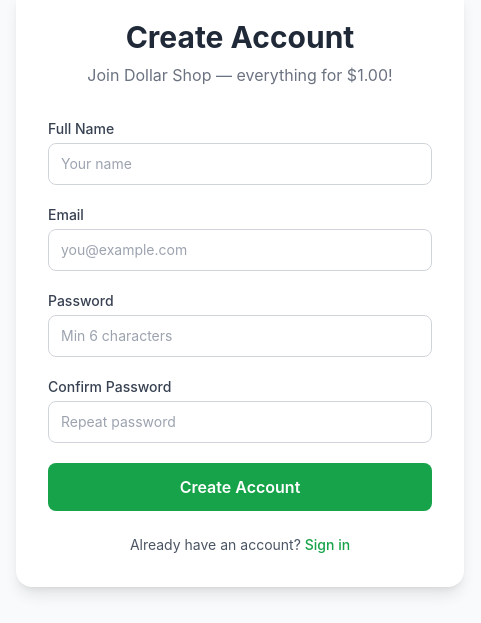
Scenario: RegisterPage › shows error when passwords do not match
The image size is (481, 623).
Type "Alice" into the field with placeholder "Your name" at (240, 164), box [48,143,432,185]
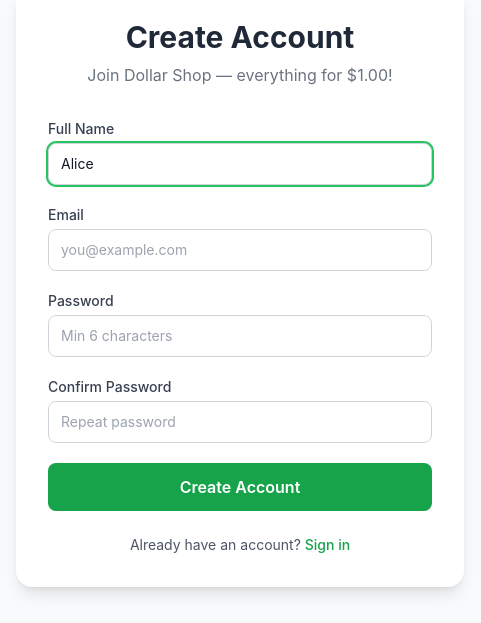
Type "alice@test.com" into the field with placeholder "you@example.com" at (240, 250), box [48,229,432,271]
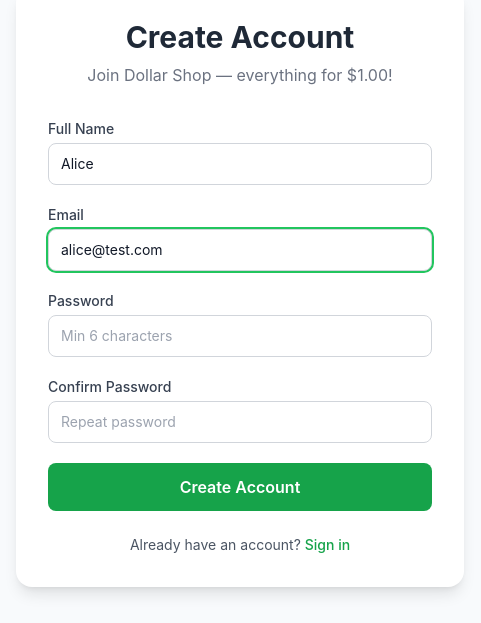
Type "password123" into the password field with placeholder "Min 6 characters" at (240, 336), box [48,315,432,357]
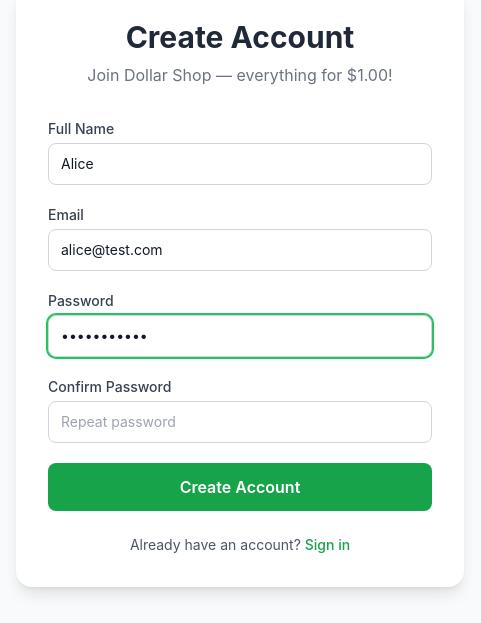
Type "different" into the password field with placeholder "Repeat password" at (240, 422), box [48,401,432,443]
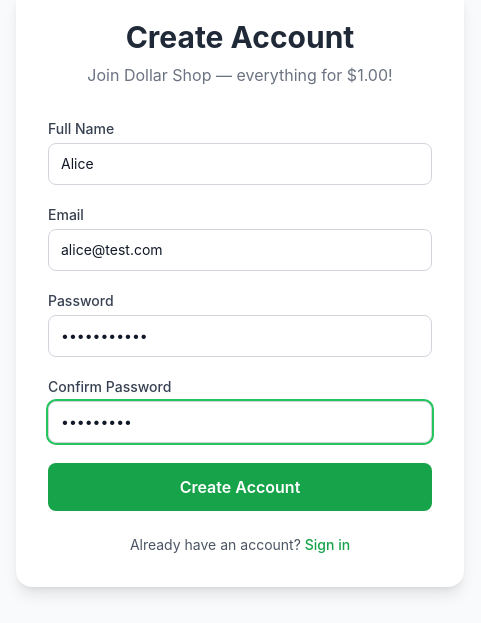
Click the button "Create Account" at (240, 487), box [48,463,432,511]
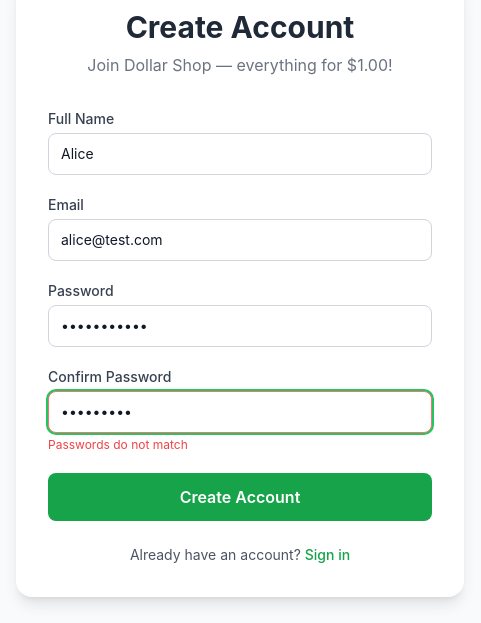
Check: the text "Passwords do not match" is shown, box [48,437,188,452]
